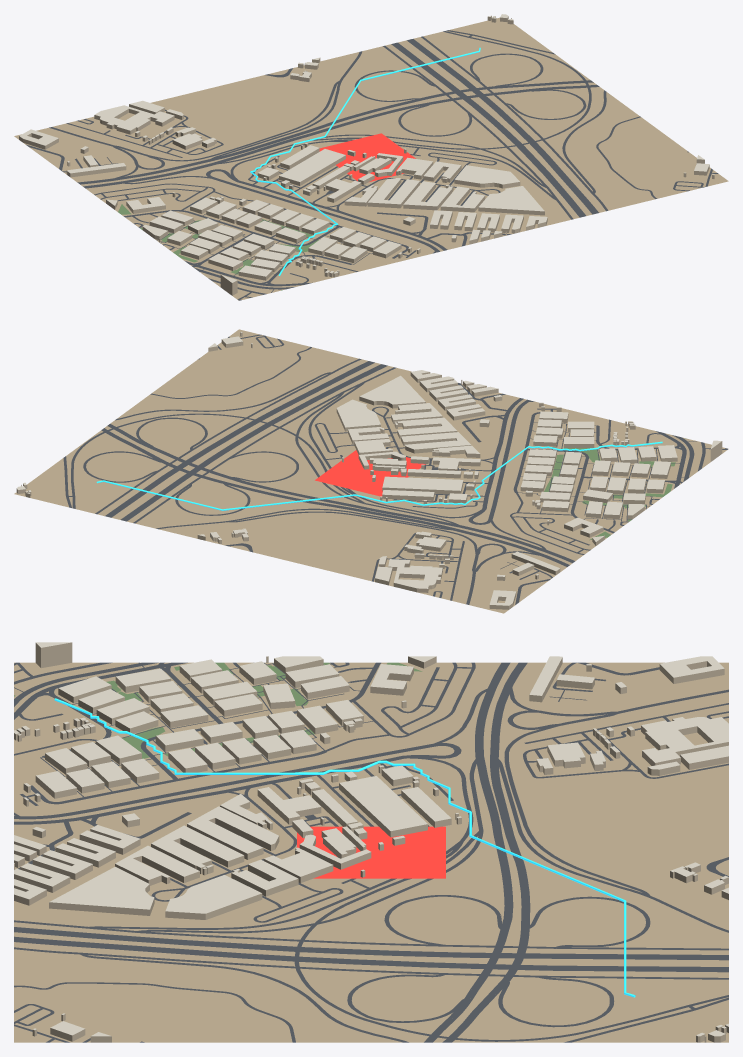
The model's file is dubai_2_5d_visual.glb.
The picture shows the model from 3 angles, top to bottom: view 1: azimuth 30°, elevation 25°; view 2: azimuth 150°, elevation 25°; view 3: azimuth 270°, elevation 25°; orthographic projection. The views are drawn at different scales.
Visible parts, largest first — view 1: Flat assumed terrain, merged_road_surface_2, merged_road_surface_1, DEMO_RESTRICTED_BASE, relation_13304089_0, way_516796676_0, way_516794115_0, way_516796678_0, Verified smoke route, way_551486573_0, way_516796681_0, way_516796679_0 (+6 smaller); view 2: Flat assumed terrain, merged_road_surface_2, merged_road_surface_1, DEMO_RESTRICTED_BASE, Verified smoke route, relation_13304089_0, way_516796676_0, way_516794115_0, way_551486573_0, way_516796678_0, way_516796681_0, way_516796679_0 (+6 smaller); view 3: Flat assumed terrain, merged_road_surface_2, merged_road_surface_1, DEMO_RESTRICTED_BASE, way_516796676_0, relation_13304089_0, way_516794115_0, way_516796678_0, way_551486573_0, Verified smoke route, way_516796681_0, way_516796679_0 (+44 smaller).
Part boxes in pixels (bbox=[...]): Flat assumed terrain: bbox=[14, 17, 728, 300]; merged_road_surface_2: bbox=[49, 30, 608, 253]; merged_road_surface_1: bbox=[94, 183, 416, 292]; DEMO_RESTRICTED_BASE: bbox=[319, 133, 415, 181]; relation_13304089_0: bbox=[94, 105, 174, 134]; way_516796676_0: bbox=[478, 186, 544, 215]; way_516794115_0: bbox=[279, 149, 345, 185]; way_516796678_0: bbox=[454, 165, 520, 188]; Verified smoke route: bbox=[250, 47, 480, 275]; way_551486573_0: bbox=[367, 178, 419, 208]; way_516796681_0: bbox=[403, 181, 451, 210]; way_516796679_0: bbox=[440, 186, 485, 212]; Flat assumed terrain: bbox=[14, 329, 728, 613]; merged_road_surface_2: bbox=[63, 358, 574, 604]; merged_road_surface_1: bbox=[510, 408, 696, 554]; DEMO_RESTRICTED_BASE: bbox=[315, 450, 425, 496]; Verified smoke route: bbox=[96, 441, 662, 510]; relation_13304089_0: bbox=[388, 559, 442, 592]; way_516796676_0: bbox=[359, 375, 425, 408]; way_516794115_0: bbox=[382, 476, 463, 494]; way_551486573_0: bbox=[401, 432, 471, 453]; way_516796678_0: bbox=[336, 399, 380, 431]; way_516796681_0: bbox=[397, 417, 457, 439]; way_516796679_0: bbox=[391, 403, 442, 423]; Flat assumed terrain: bbox=[14, 662, 728, 1042]; merged_road_surface_2: bbox=[14, 662, 728, 1042]; merged_road_surface_1: bbox=[14, 662, 475, 805]; DEMO_RESTRICTED_BASE: bbox=[297, 826, 445, 878]; way_516796676_0: bbox=[49, 866, 154, 915]; relation_13304089_0: bbox=[641, 717, 728, 765]; way_516794115_0: bbox=[339, 776, 427, 837]; way_516796678_0: bbox=[165, 875, 262, 919]; way_551486573_0: bbox=[187, 806, 279, 859]; Verified smoke route: bbox=[54, 698, 635, 997]; way_516796681_0: bbox=[151, 825, 244, 868]; way_516796679_0: bbox=[115, 845, 199, 885].
Size of the model in its own units: 1023 by 25.6 by 814.
